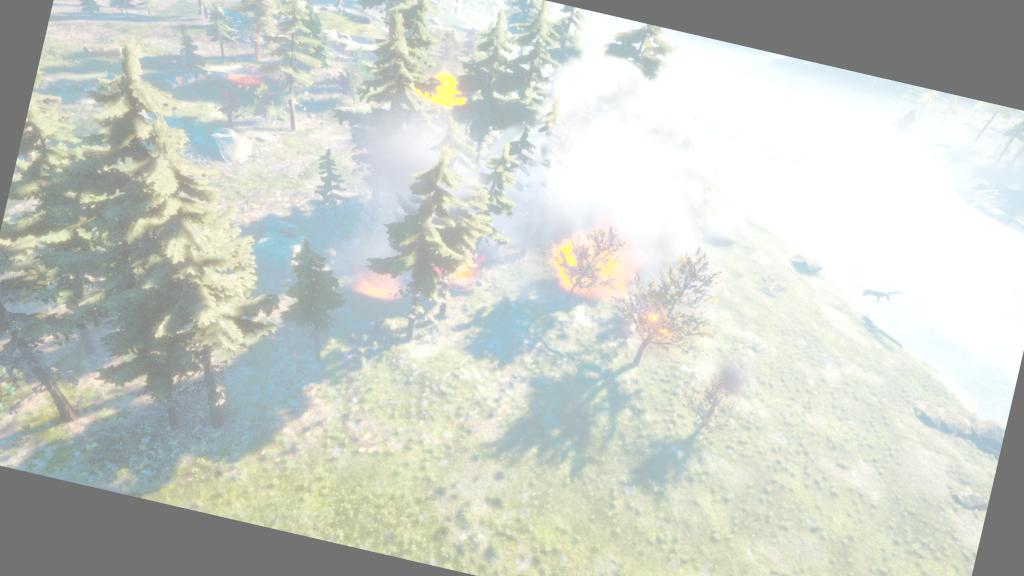Fire: (540, 229, 639, 312), (349, 262, 406, 308), (412, 72, 471, 116), (642, 312, 676, 352), (221, 68, 266, 95)
smoke: (570, 146, 682, 246), (357, 113, 430, 238), (488, 163, 572, 229)
